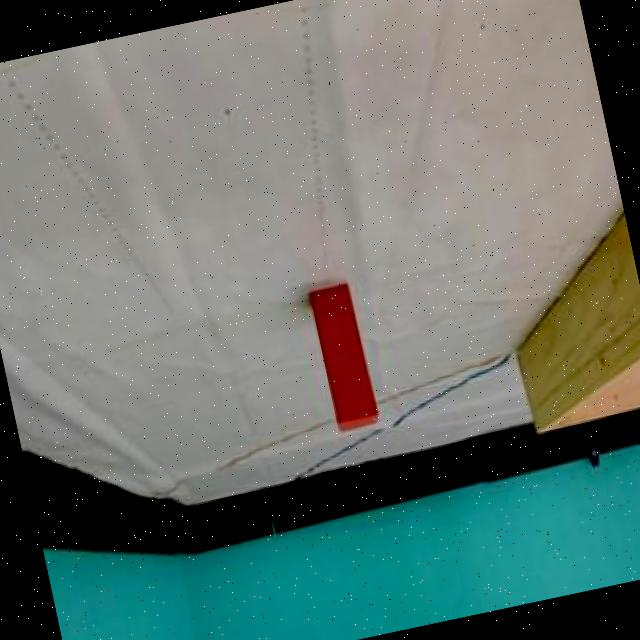redbox: (308, 284, 379, 432)
